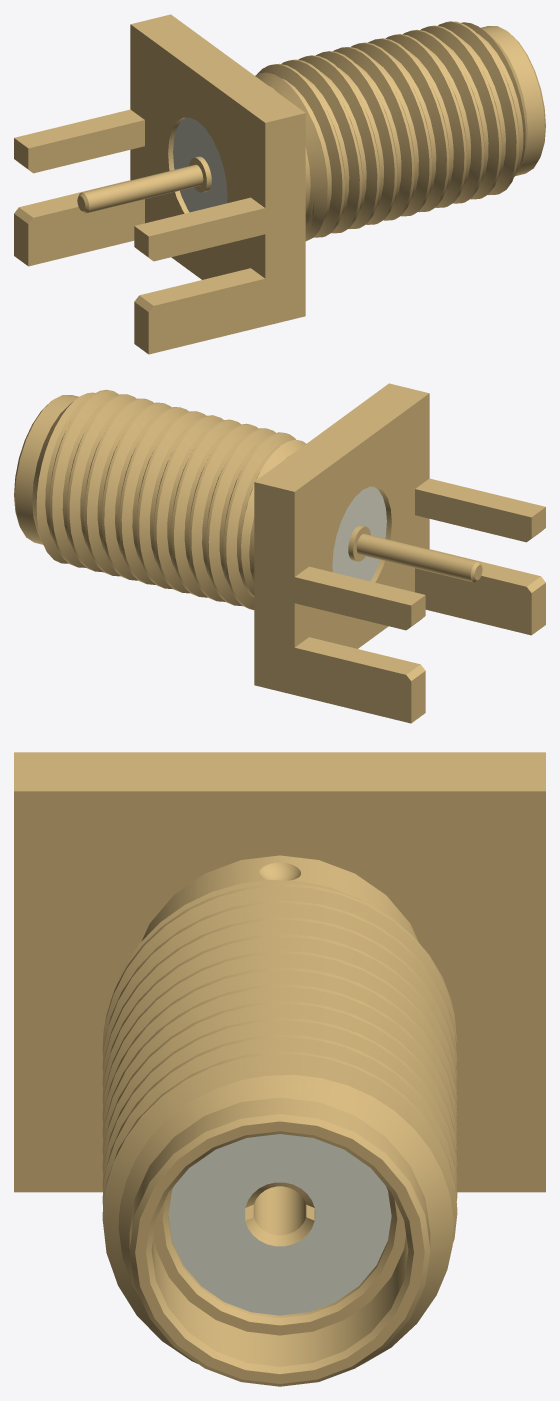
File: SMA_Amphenol_132289_EdgeMount.glb
3 renders of one model, top to bottom at view 1: azimuth 30°, elevation 25°; view 2: azimuth 150°, elevation 25°; view 3: azimuth 270°, elevation 25°, orthographic. The views are drawn at different scales.
Parts seen in each view (by area): view 1: =>[0:1:1:3]; view 2: =>[0:1:1:3]; view 3: =>[0:1:1:3].
Part boxes in pixels (box(x1,y1,x2,y2)): =>[0:1:1:3]: box(14, 14, 545, 354); =>[0:1:1:3]: box(14, 383, 545, 723); =>[0:1:1:3]: box(14, 752, 545, 1386).
Bounding box in the file's own units: 0.0174 × 0.00792 × 0.00952.
